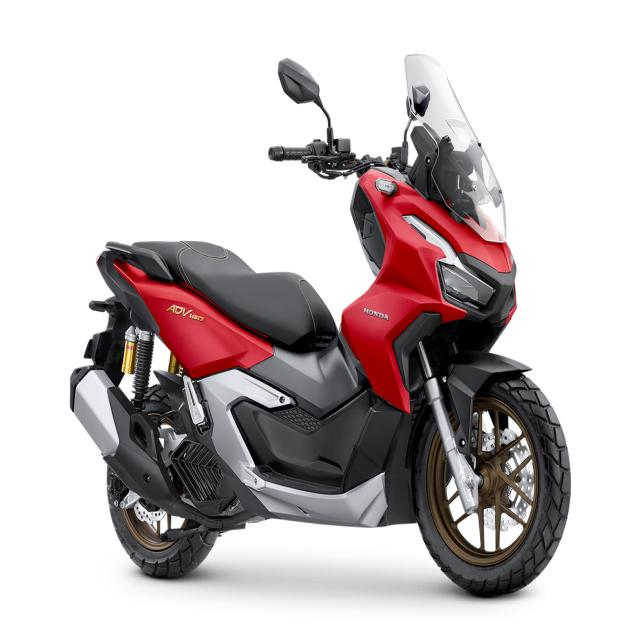Motorcycle: (70, 54, 571, 596)
